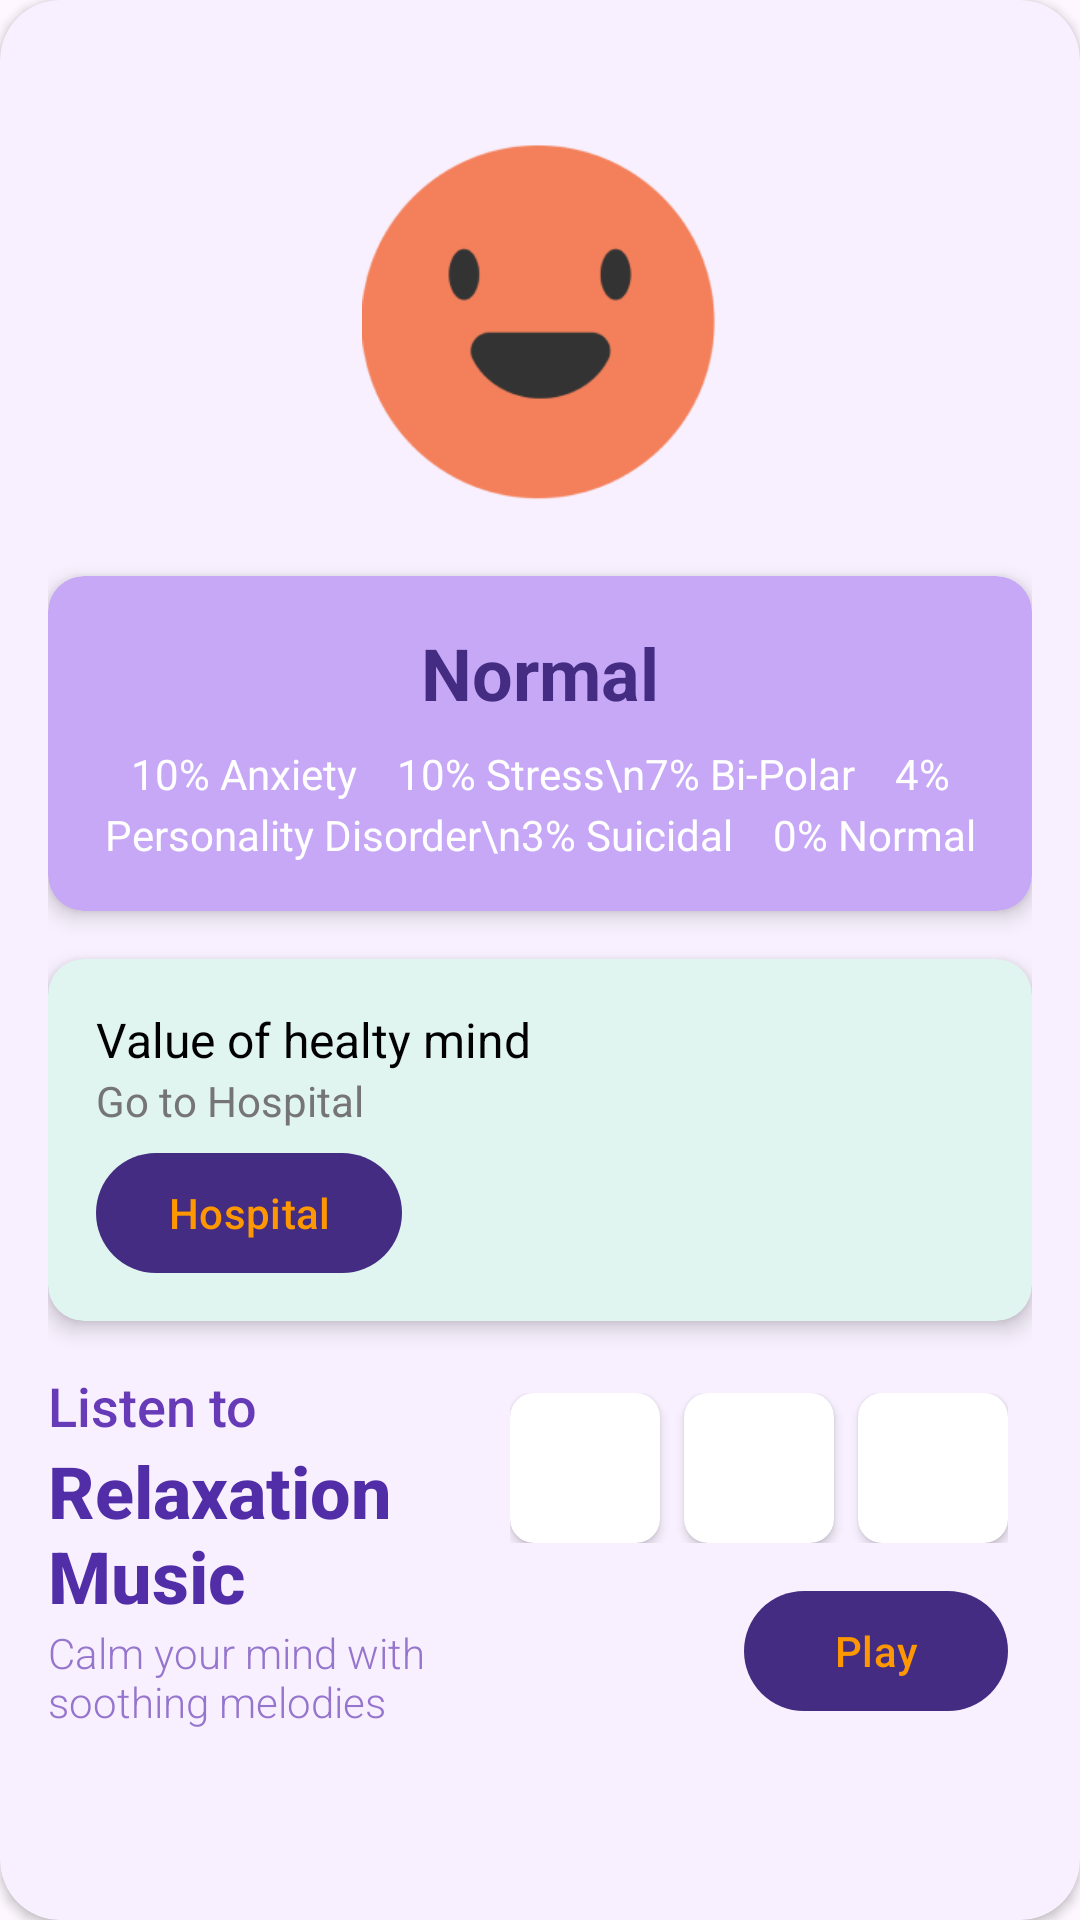

Icons on this 1080*1920 Android screen, each with its box as (x1, y1, x2, y2):
Emotion Face: (362, 145, 715, 499)
